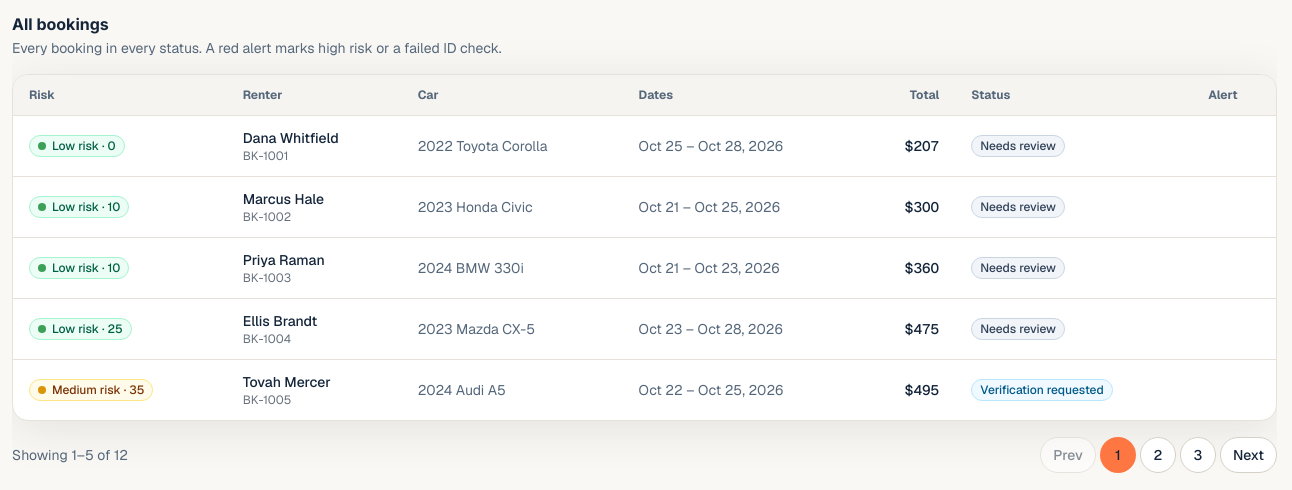
Test case: AllBookingsPage › disables Prev on page 1 and Next on the last page
Expected: the button "Prev" is disabled, left=1040, top=437, right=1096, bottom=473
Expected: the button "Next" is enabled, left=1220, top=437, right=1277, bottom=473
Step 1. Click the button named "Page 3" → x=1198, y=455, box left=1180, top=437, right=1216, bottom=473
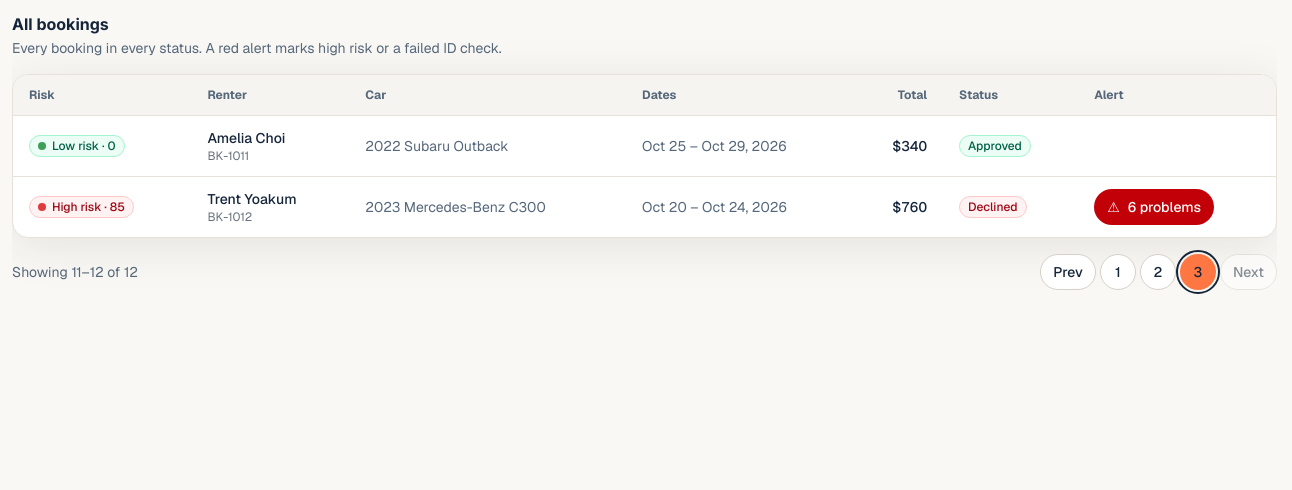
Expected: the text "Showing 11–12 of 12" is shown, left=12, top=262, right=138, bottom=282
Expected: the button "Next" is disabled, left=1220, top=254, right=1277, bottom=290
Expected: the button "Prev" is enabled, left=1040, top=254, right=1096, bottom=290
